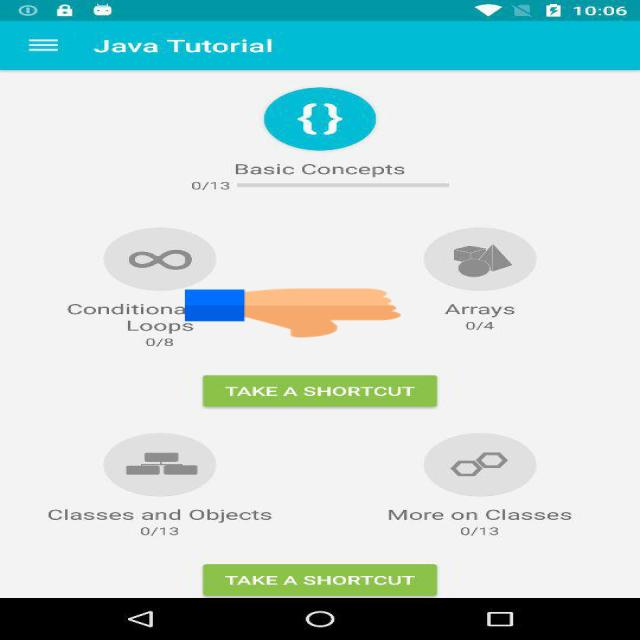obstruction: (185, 287, 400, 339)
